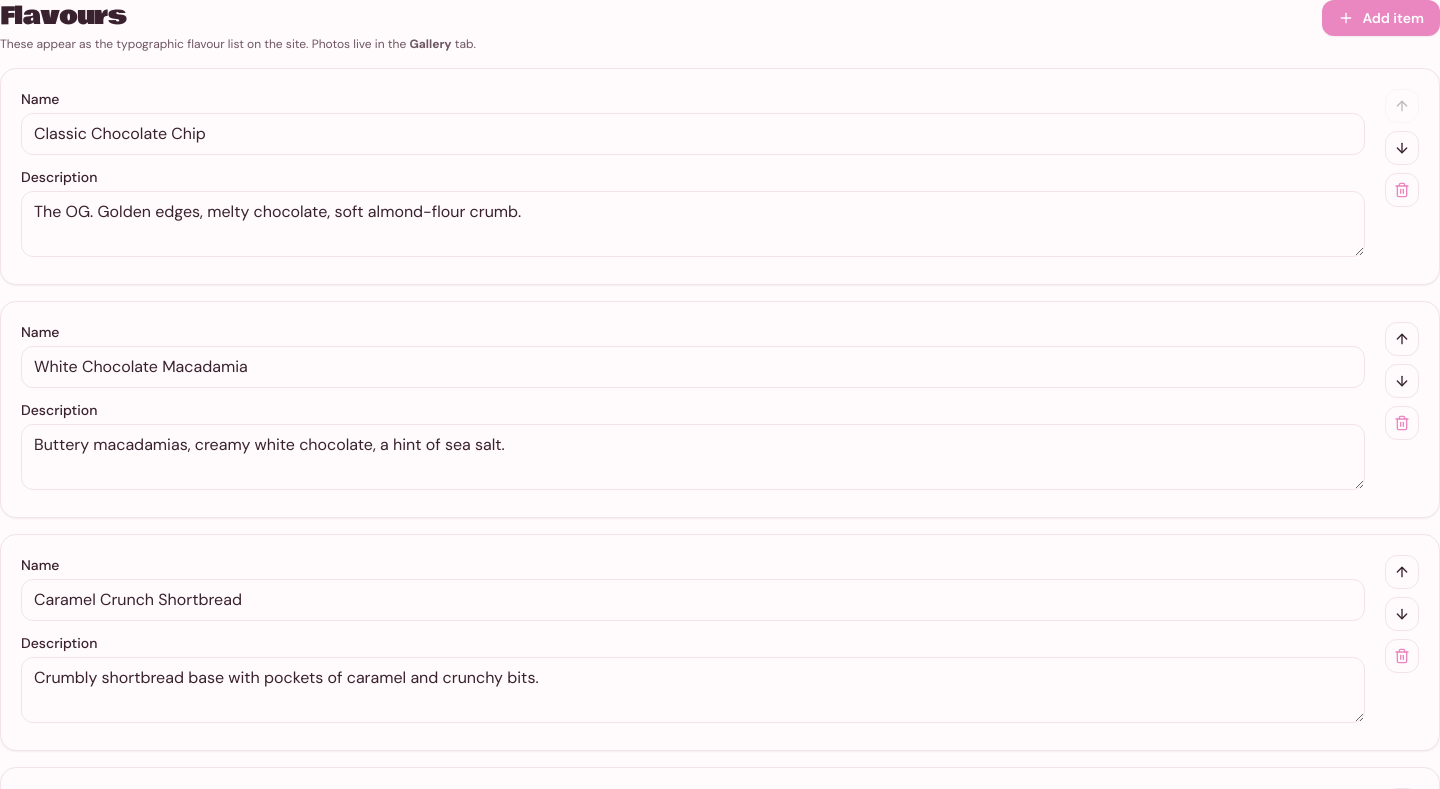
Test: MenuEditor › ADD creates a new flavour at the end of the list
This screenshot has width=1440, height=789.
Step 1. Click the button "Add item" → (1381, 18), box [1322,0,1439,36]
(page scrolled)
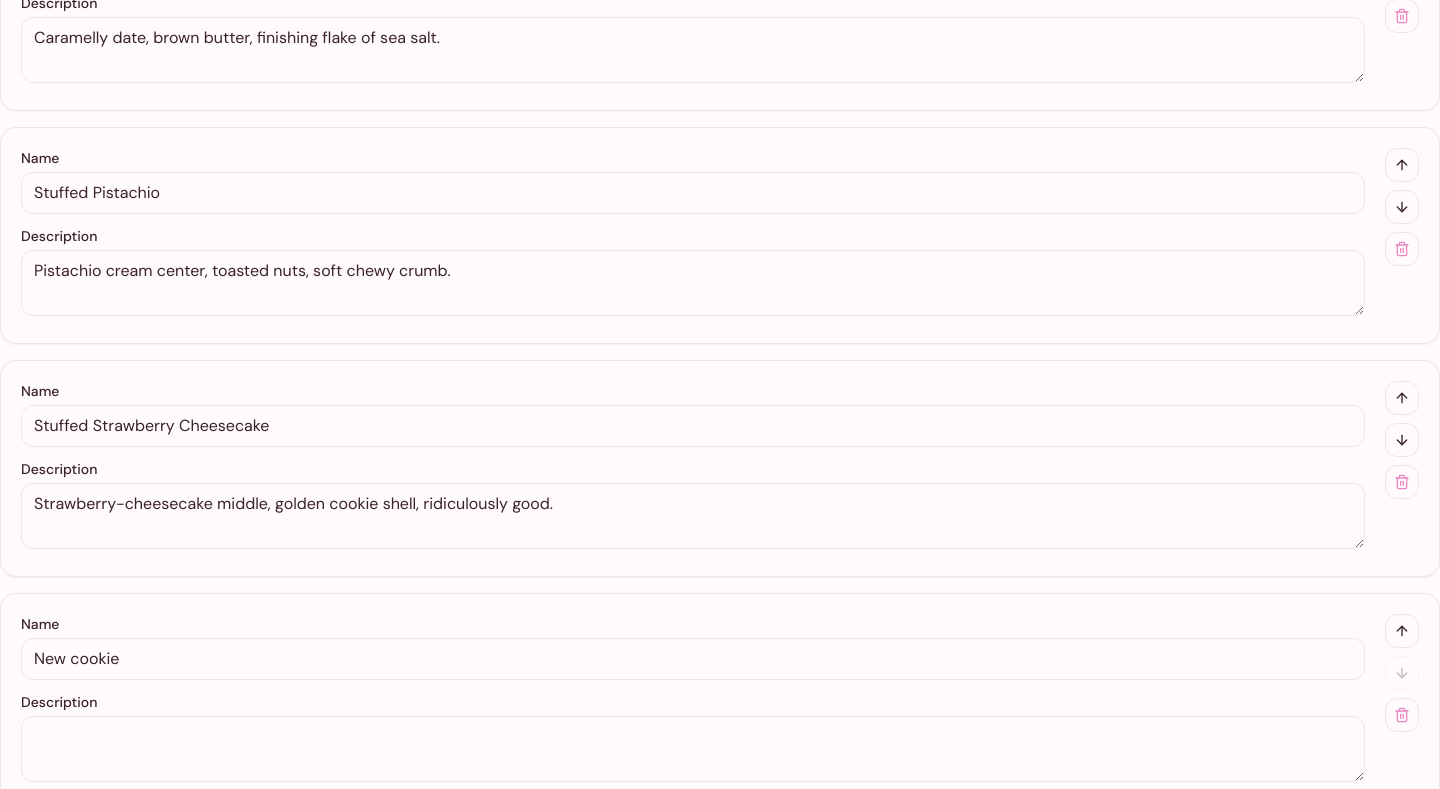
Expected: the 3rd field showing "New cookie" is shown, [21,638,1365,680]
